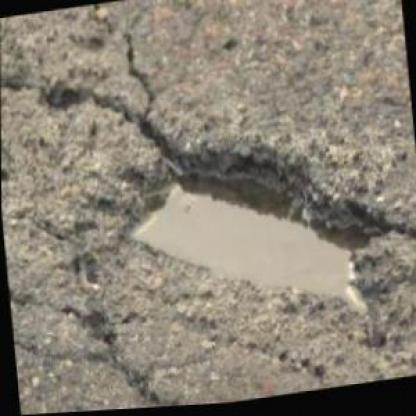pothole: (102, 113, 410, 361)
